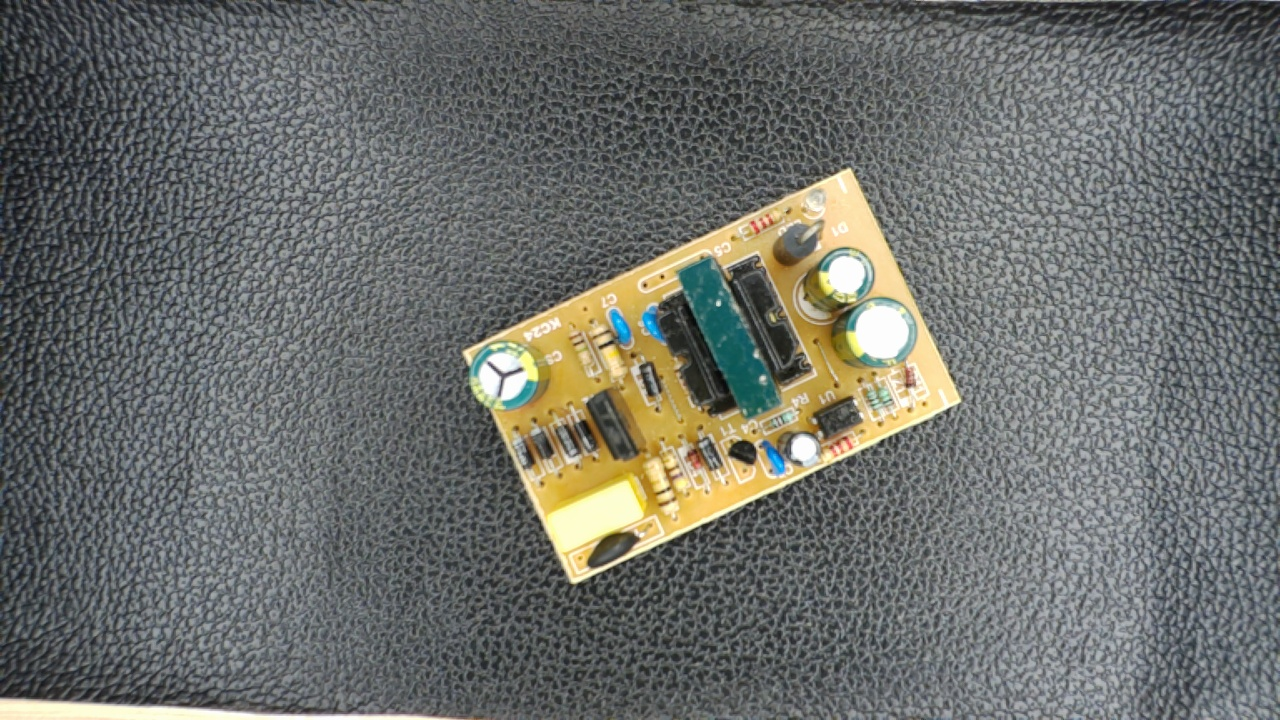fuse: (572, 527, 650, 573)
hv_capacitor: (467, 336, 554, 416)
optocoupler: (806, 392, 866, 443)
